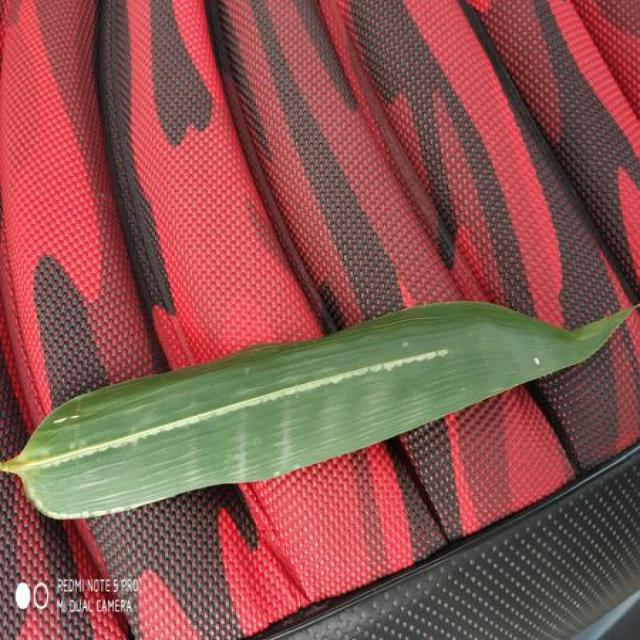Bamboo: (3, 302, 633, 519)
